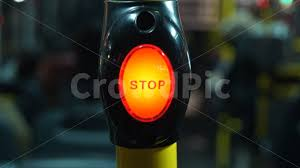bell: (99, 1, 196, 149)
